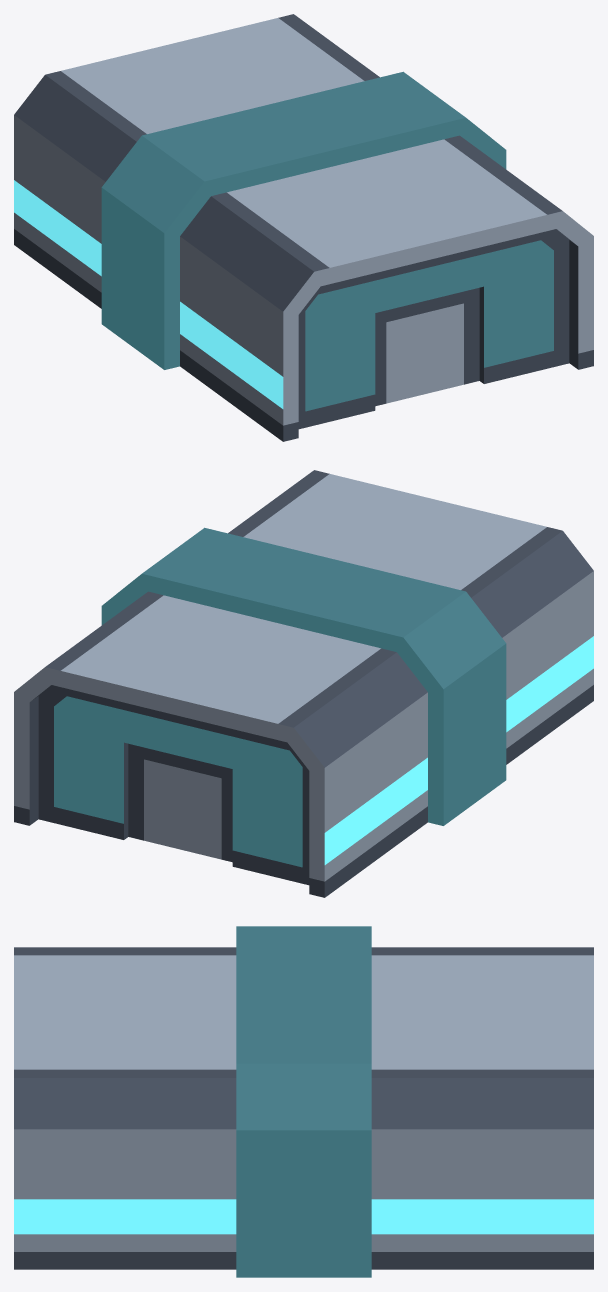
The model's file is hangar_largeB.glb.
The picture shows the model from 3 angles, top to bottom: view 1: azimuth 30°, elevation 25°; view 2: azimuth 150°, elevation 25°; view 3: azimuth 270°, elevation 25°; orthographic projection. The views are drawn at different scales.
Visible parts, largest first — view 1: hangar_largeB, gate.001; view 2: hangar_largeB, gate; view 3: hangar_largeB.
Boxes of the visible parts, box(x1,y1,x2,y2) form: hangar_largeB: box(14, 14, 593, 441); gate.001: box(298, 229, 569, 429); hangar_largeB: box(14, 470, 593, 897); gate: box(38, 685, 309, 885); hangar_largeB: box(14, 926, 593, 1277).
Bounding box in the file's own units: 2.2 × 1.1 × 3.
